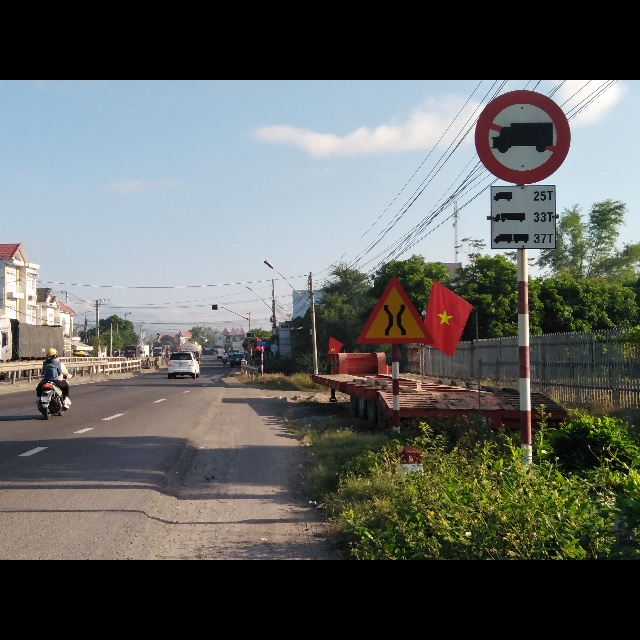Cấm xe tải: (474, 90, 570, 186)
Cầu hẹp: (356, 277, 434, 343)
